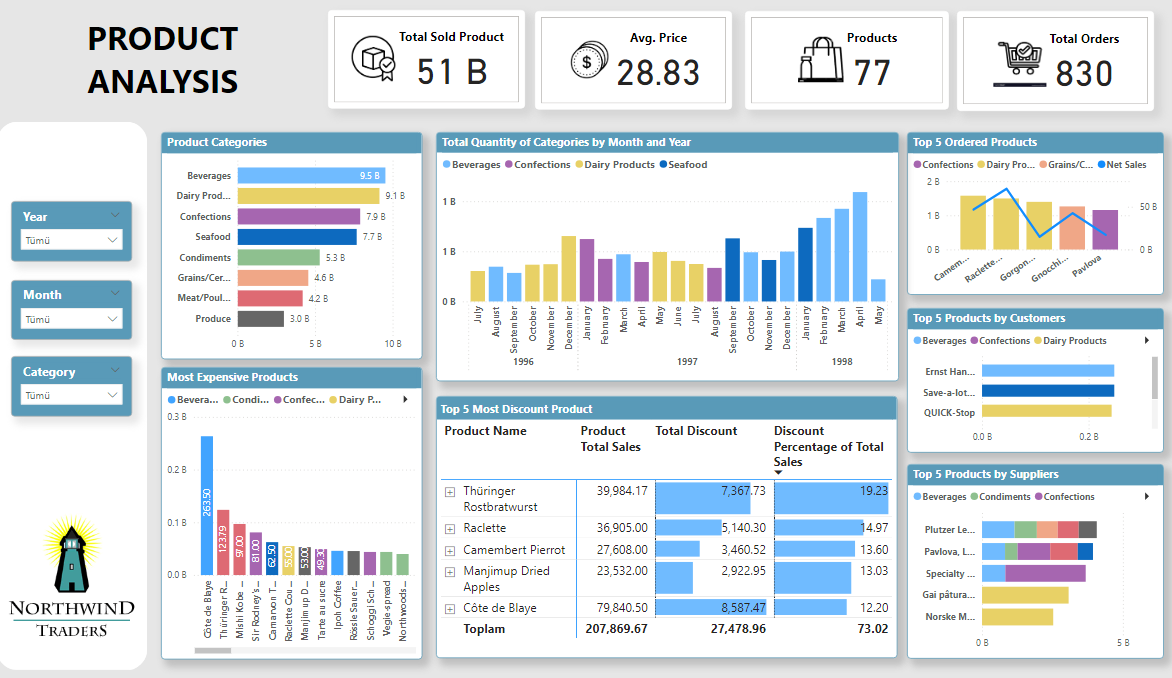

This screenshot's page, from the dashboard's own definition file:
{"tool":"powerbi","page":{"name":"Product Analysis","canvas":[1550,900],"ordinal":2},"visuals":[{"type":"barChart","title":"Product Categories","fields":{"Category":["ProductCategory.category_name"],"Y":["Sum(ProductCategory.total_quantity)"]},"box":[216.5,179.4,344.6,300.5],"z":0},{"type":"columnChart","title":"Most Expensive Products","fields":{"Category":["ProductsPriceDESC.product"],"Y":["Sum(ProductsPriceDESC.price)"],"Series":["ProductsPriceDESC.category"]},"box":[216.5,489.9,344.6,385.9],"z":1000},{"type":"lineStackedColumnComboChart","title":"Top 5 Ordered Products","fields":{"Category":["Top5 Ordered Products.product_name"],"Y":["Sum(Top5 Ordered Products.total_quantity)"],"Series":["Top5 Ordered Products.category_name"],"Y2":["Sum(Top5 Ordered Products.net_sales)"]},"box":[1200.9,179.5,339.1,215.1],"z":2000},{"type":"pivotTable","title":"Top 5 Most Discount Product","fields":{"Rows":["ProductMostDiscount.product_name","ProductMostDiscount.category_name"],"Values":["Sum(ProductMostDiscount.per_product_total_sales)","Sum(ProductMostDiscount.total_discount)","Sum(ProductMostDiscount.discount_percentage_totalsales)"]},"box":[579.6,528.3,609.5,346],"z":3000},{"type":"lineStackedColumnComboChart","title":"Total Quantity of Categories by Month and Year","fields":{"Category":["MonthlyCategorySales.year","MonthlyCategorySales.MonthName"],"Series":["MonthlyCategorySales.category_name"],"Y":["Sum(MonthlyCategorySales.total_quantity_sold)"]},"box":[579.6,179.4,610.9,329],"z":4000},{"type":"shape","box":[0,166.3,197.9,723.2],"z":5000},{"type":"image","box":[2.6,677,191.3,175.5],"z":6000},{"type":"slicer","fields":{"Values":["public categories.category_name"]},"box":[18.5,475.1,159.7,80.5],"z":7000},{"type":"slicer","fields":{"Values":["DateTable.MonthName"]},"box":[18.5,374.8,159.7,79.2],"z":8000},{"type":"slicer","fields":{"Values":["DateTable.Year"]},"box":[18.5,270.5,159.7,80.5],"z":9000},{"type":"textbox","box":[1.5,19.4,435,130],"z":10000},{"type":"cardVisual","fields":{"Data":["Sum(TotalQuantitySold.total_quantity_sold)"]},"box":[436.5,17.9,260.1,130],"z":11000},{"type":"cardVisual","fields":{"Data":["CountNonNull(public products.product_id)"]},"box":[986.5,19.4,269,130],"z":12000},{"type":"cardVisual","fields":{"Data":["Sum(Product Avg.Price.average_price)"]},"box":[710,19.4,260.1,130],"z":13000},{"type":"barChart","title":"Top 5 Products by Customers","fields":{"Category":["CustomerProduct.company_name"],"Y":["Sum(CustomerProduct.total_quantity)"],"Series":["CustomerProduct.category_name"]},"box":[1200.9,411.7,339.1,191.3],"z":14000},{"type":"cardVisual","fields":{"Data":["Sum(OrderCount.order_count)"]},"box":[1267.5,19.4,260.1,131.5],"z":15000},{"type":"barChart","title":"Top 5 Products by Suppliers","fields":{"Category":["SupplierProduct.supplier"],"Series":["SupplierProduct.category"],"Y":["Sum(SupplierProduct.totalsold)"]},"box":[1200.9,617.6,339.1,257.3],"z":16000}]}

Visuals, with their boxes in screenshot pixels (x1, y1, x2, y2), scaled from the page's 1550x900 canvas onto the 1172x678 screenshot:
"Product Categories" barChart: box=[164, 135, 424, 362]
"Most Expensive Products" columnChart: box=[164, 369, 424, 660]
"Top 5 Ordered Products" lineStackedColumnComboChart: box=[908, 135, 1164, 297]
"Top 5 Most Discount Product" pivotTable: box=[438, 398, 899, 659]
"Total Quantity of Categories by Month and Year" lineStackedColumnComboChart: box=[438, 135, 900, 383]
shape: box=[0, 125, 150, 670]
image: box=[2, 510, 147, 642]
slicer - public categories.category_name: box=[14, 358, 135, 419]
slicer - DateTable.MonthName: box=[14, 282, 135, 342]
slicer - DateTable.Year: box=[14, 204, 135, 264]
textbox: box=[1, 15, 330, 113]
cardVisual - Sum(TotalQuantitySold.total_quantity_sold): box=[330, 13, 527, 111]
cardVisual - CountNonNull(public products.product_id): box=[746, 15, 949, 113]
cardVisual - Sum(Product Avg.Price.average_price): box=[537, 15, 734, 113]
"Top 5 Products by Customers" barChart: box=[908, 310, 1164, 454]
cardVisual - Sum(OrderCount.order_count): box=[958, 15, 1155, 114]
"Top 5 Products by Suppliers" barChart: box=[908, 465, 1164, 659]
